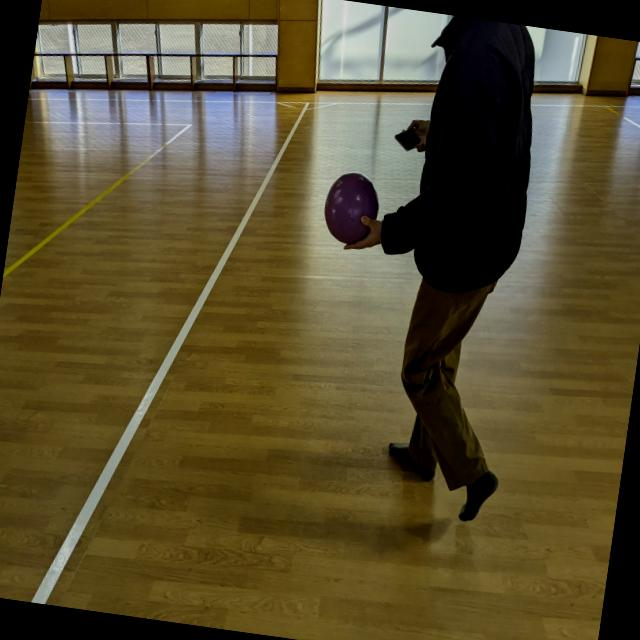purple_ball: (320, 170, 384, 250)
